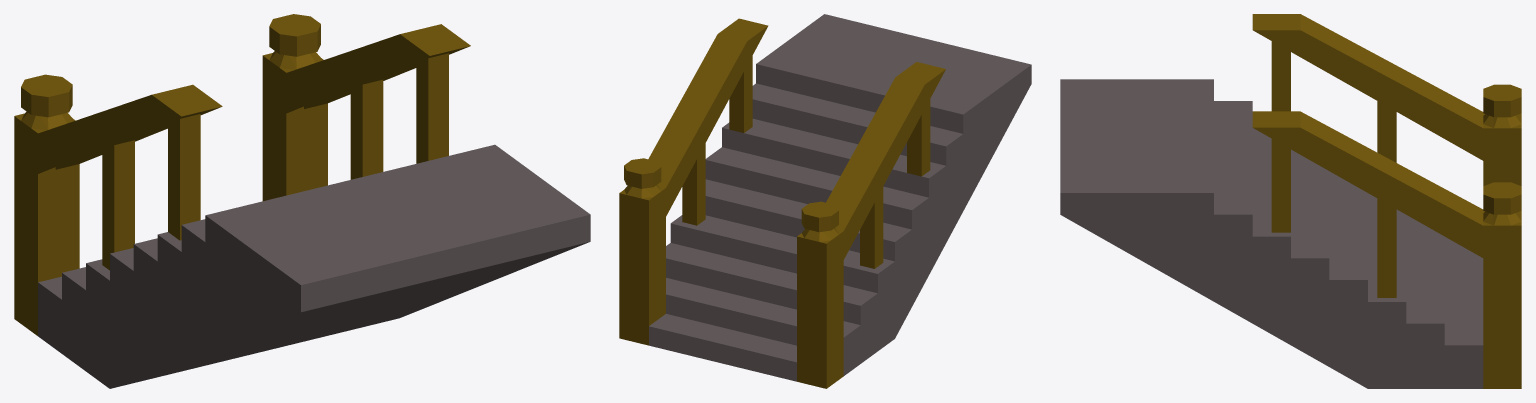
The model's file is obj_stairs_5_0.obj.
3 renders of one model, left to right at view 1: azimuth 30°, elevation 25°; view 2: azimuth 150°, elevation 25°; view 3: azimuth 270°, elevation 25°, orthographic. The views are drawn at different scales.
Size of the model in its own units: 1.75 by 1.88 by 3.
